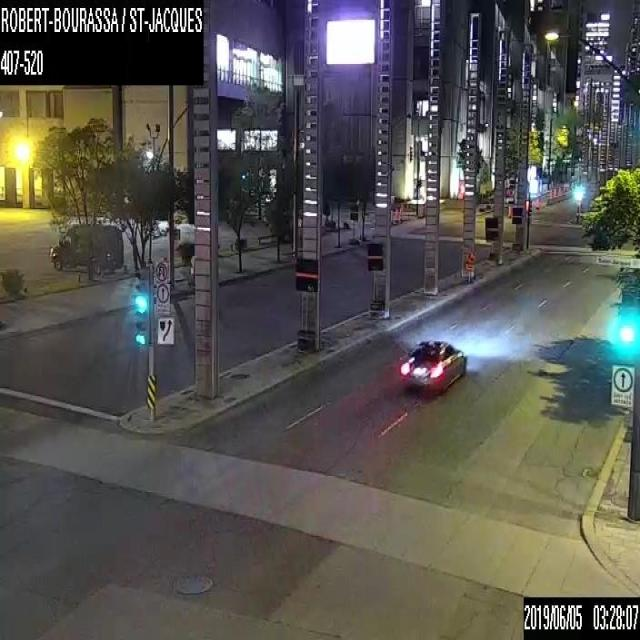construction: (464, 253, 474, 283)
vehicle: (48, 222, 123, 274), (398, 338, 465, 394)
